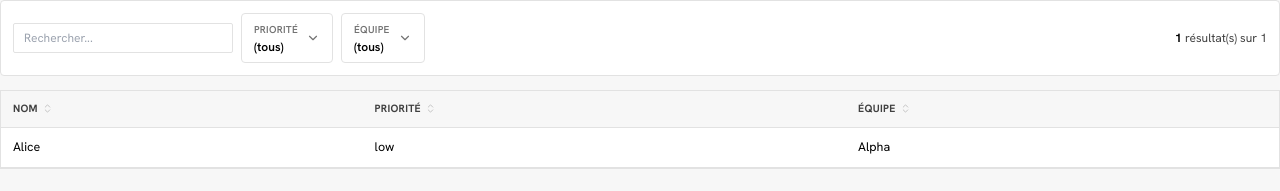
Test: EditableTable — commit de l'édition inline › commit immédiatement au choix d'une option du select, sans attendre le blur
Double-click the cell "low".
double_click(384, 146)  # box top-left (363, 127), bottom-right (846, 167)
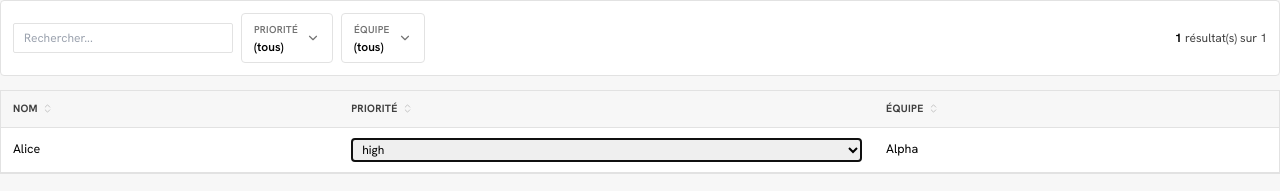
Check: the dropdown is shown
Select "high" in the dropdown at (607, 150), box top-left (351, 138), bottom-right (862, 162)
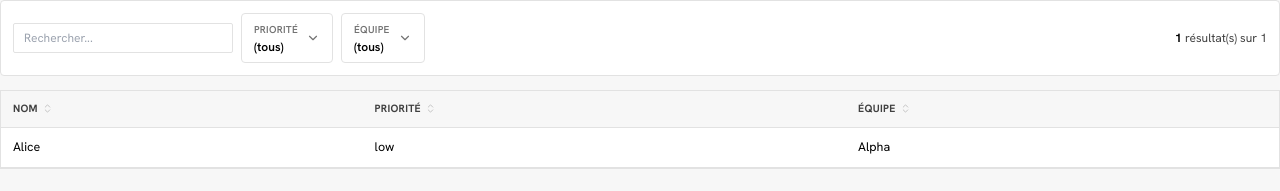
Check: the dropdown is gone
